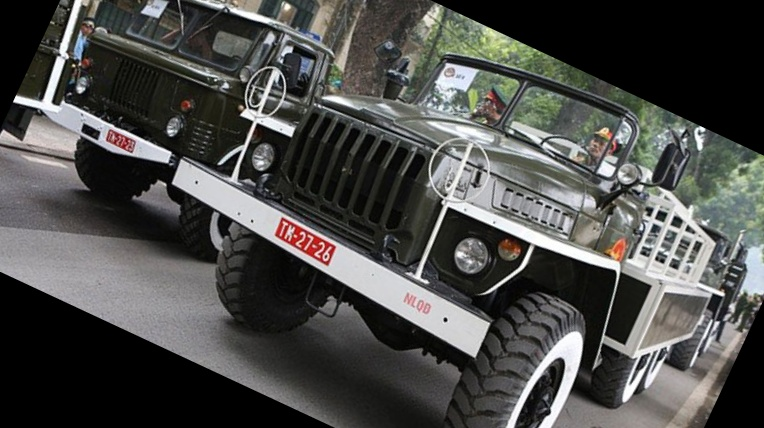plate: (276, 218, 336, 267), (101, 127, 138, 153)
